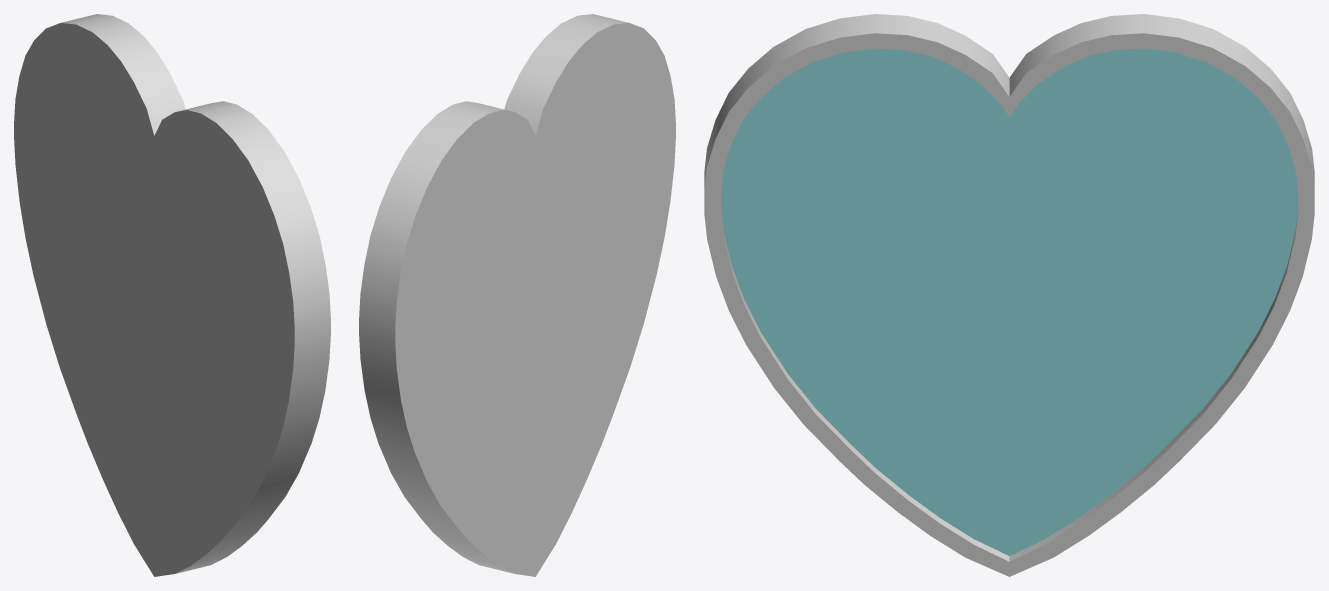
Rendered from espejoPared2.fbx.
3 renders of one model, left to right at view 1: azimuth 30°, elevation 25°; view 2: azimuth 150°, elevation 25°; view 3: azimuth 270°, elevation 25°, orthographic. The views are drawn at different scales.
Parts seen in each view (by area): view 1: EspejoPared2; view 2: EspejoPared2; view 3: EspejoPared2.
Part boxes in pixels (left/top/right/bottom): EspejoPared2: left=14, top=14, right=330, bottom=576; EspejoPared2: left=359, top=14, right=675, bottom=576; EspejoPared2: left=704, top=14, right=1314, bottom=576.
Bounding box in the file's own units: 79.61 × 1048 × 1067.
